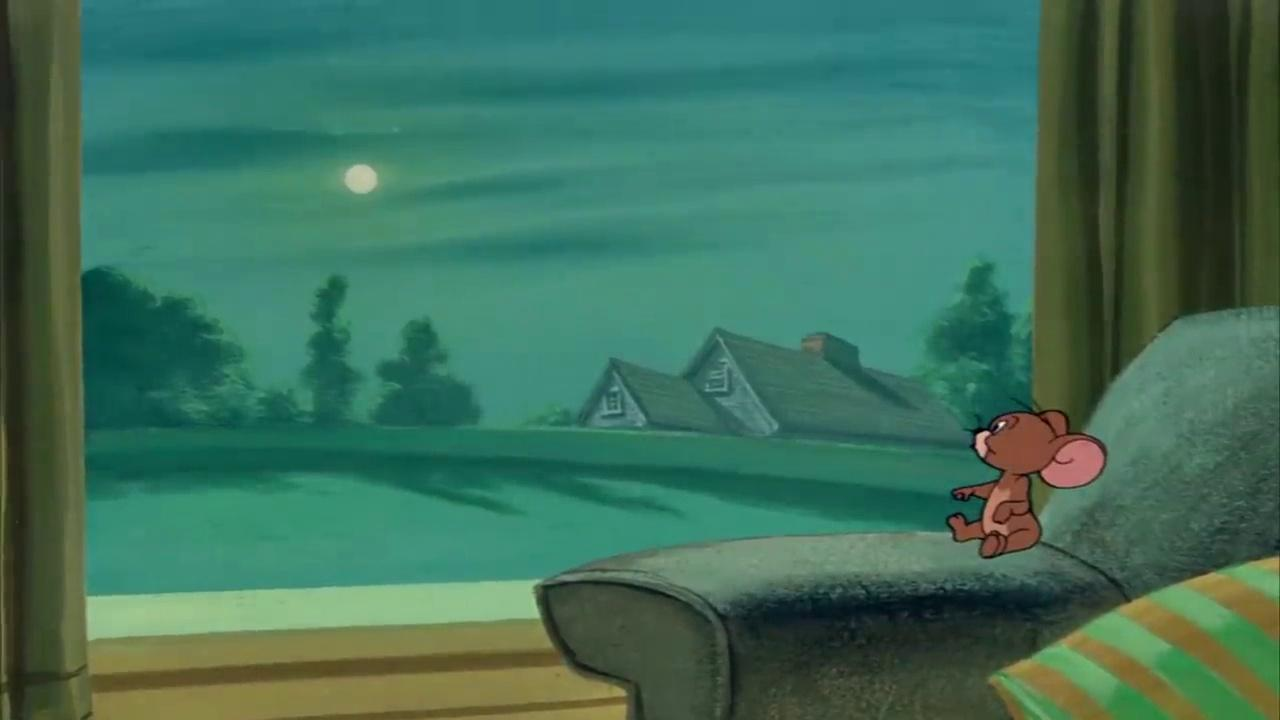Jerry: (944, 393, 1109, 560)
